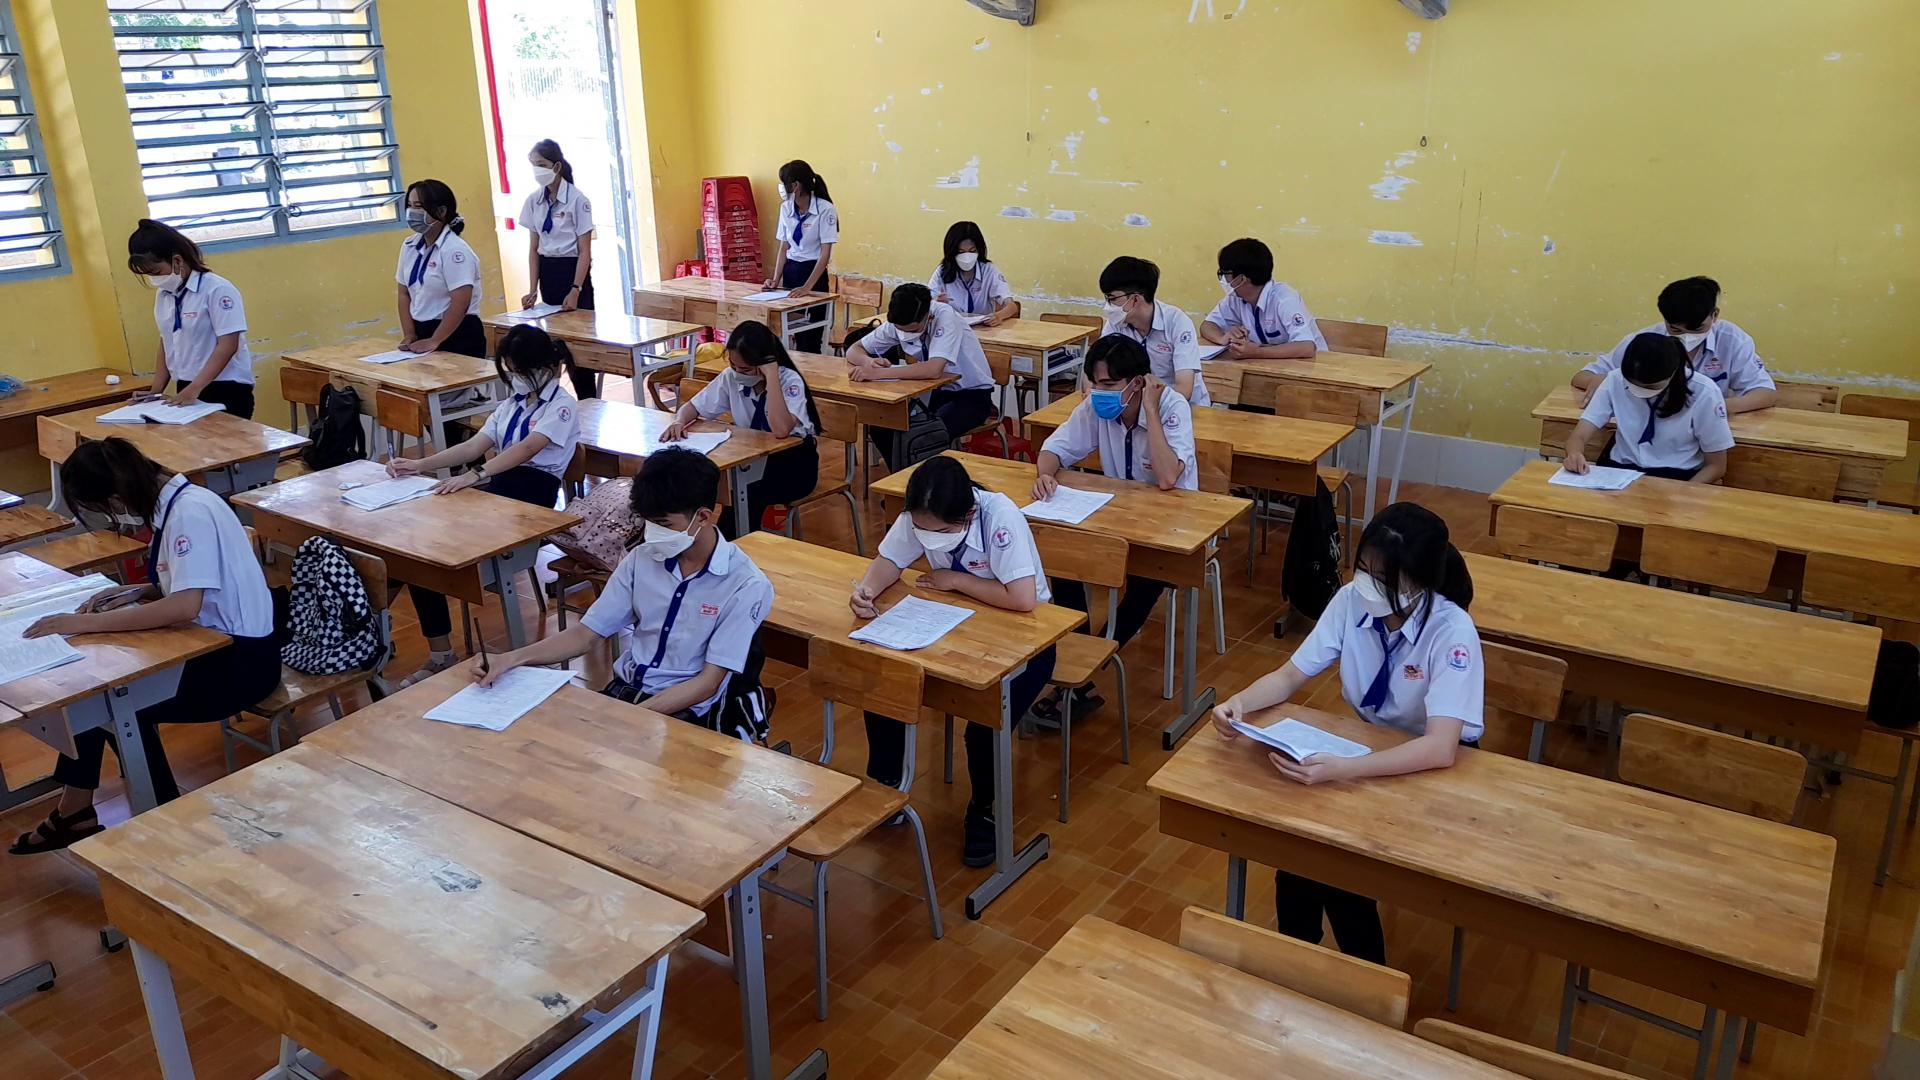Bend Over The Desk: (45, 433, 167, 545), (1607, 313, 1700, 418)
Hand Under Table: (655, 566, 762, 732), (1677, 375, 1737, 492)
Look Around: (1096, 248, 1164, 334), (1208, 218, 1276, 302)
Normal: (1200, 487, 1497, 782), (840, 448, 1046, 625), (434, 310, 574, 501), (837, 266, 996, 398), (928, 208, 1027, 318)
Stand Up: (111, 208, 260, 421), (376, 162, 488, 363), (495, 124, 607, 324), (761, 140, 847, 305)
Wave: (1130, 365, 1197, 492), (753, 348, 814, 444)
